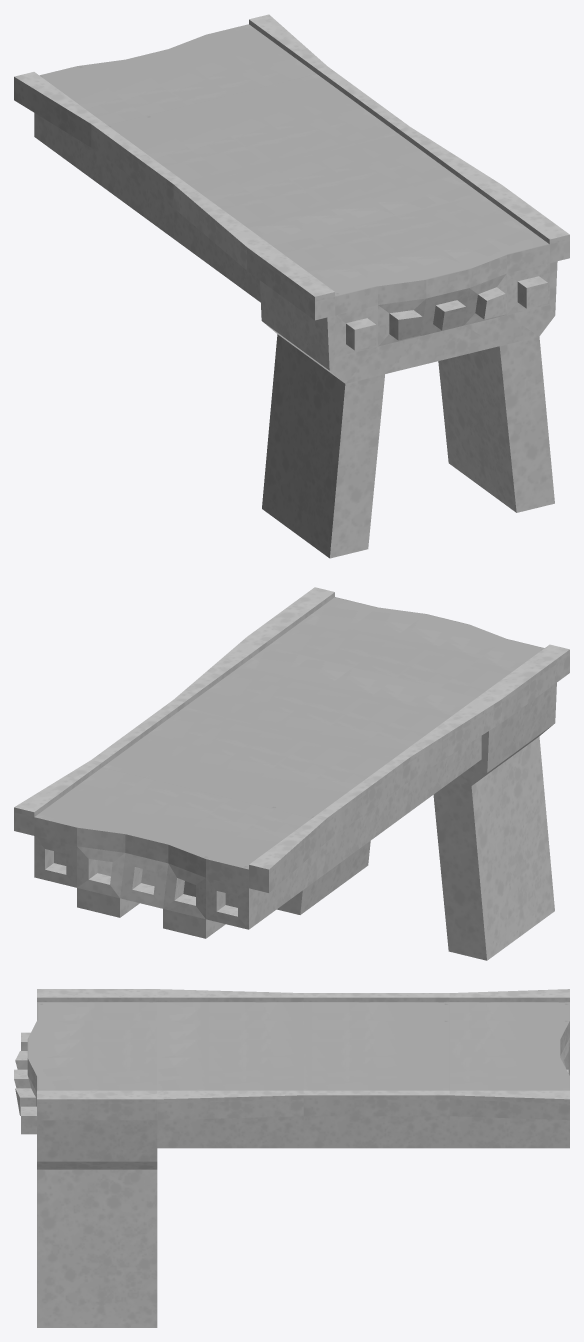
The model's file is MotorwayBridge.fbx.
3 views of the same model, one above another, from view 1: azimuth 30°, elevation 25°; view 2: azimuth 150°, elevation 25°; view 3: azimuth 270°, elevation 25° (orthographic). The views are drawn at different scales.
Visible parts, largest first — view 1: Model; view 2: Model; view 3: Model.
Boxes of the visible parts, x1,y1,x2,y2 form: Model: (14, 14, 569, 558); Model: (14, 587, 569, 960); Model: (14, 989, 569, 1327).
Size of the model in its own units: 1025 by 1019 by 2184.
2 materials, 2 textured.
